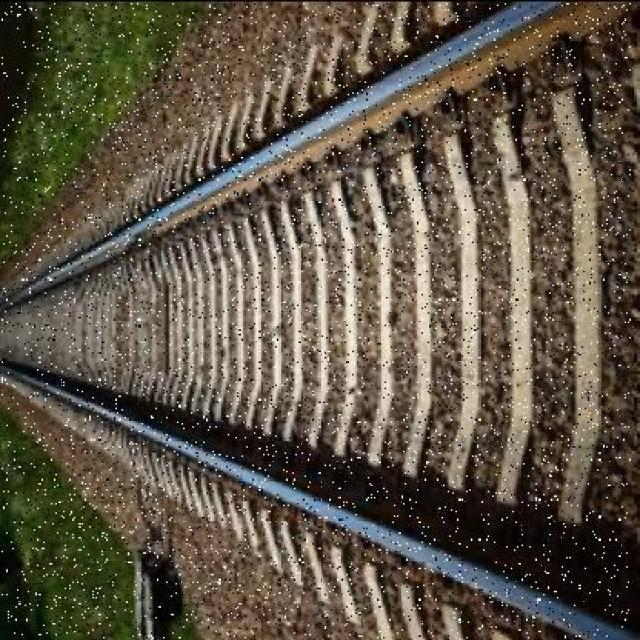rail: (2, 2, 631, 637)
